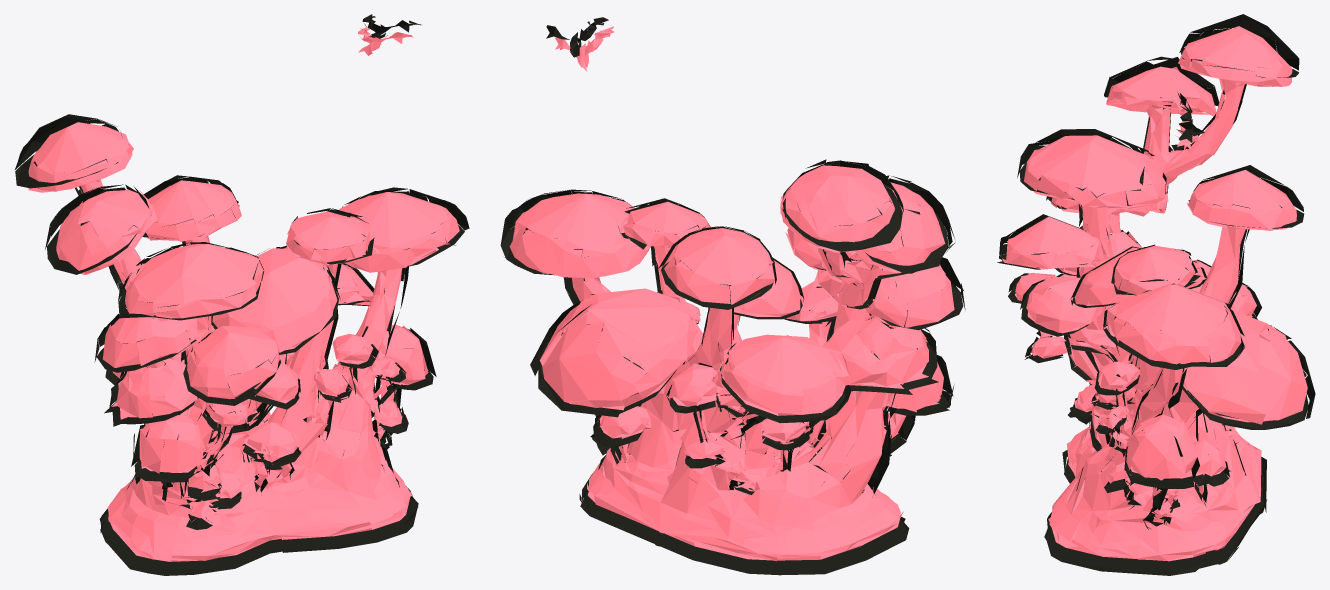
File: df_v2_mushroom_cluster_large_e_a.glb
The picture shows the model from 3 angles, left to right: view 1: azimuth 30°, elevation 25°; view 2: azimuth 150°, elevation 25°; view 3: azimuth 270°, elevation 25°; orthographic projection. The views are drawn at different scales.
Visible parts, largest first — view 1: mushroom_cluster_large_e_mesh_01, mushroom_cluster_large_e_mesh_01_ink_outline; view 2: mushroom_cluster_large_e_mesh_01, mushroom_cluster_large_e_mesh_01_ink_outline; view 3: mushroom_cluster_large_e_mesh_01, mushroom_cluster_large_e_mesh_01_ink_outline.
Boxes of the visible parts, x1,y1,x2,y2 form: mushroom_cluster_large_e_mesh_01: (28, 27, 459, 561); mushroom_cluster_large_e_mesh_01_ink_outline: (15, 14, 469, 575); mushroom_cluster_large_e_mesh_01: (509, 26, 954, 561); mushroom_cluster_large_e_mesh_01_ink_outline: (500, 17, 965, 575); mushroom_cluster_large_e_mesh_01: (1002, 26, 1307, 561); mushroom_cluster_large_e_mesh_01_ink_outline: (997, 14, 1315, 575).
Size of the model in its own units: 1.87 by 2.04 by 1.24.
